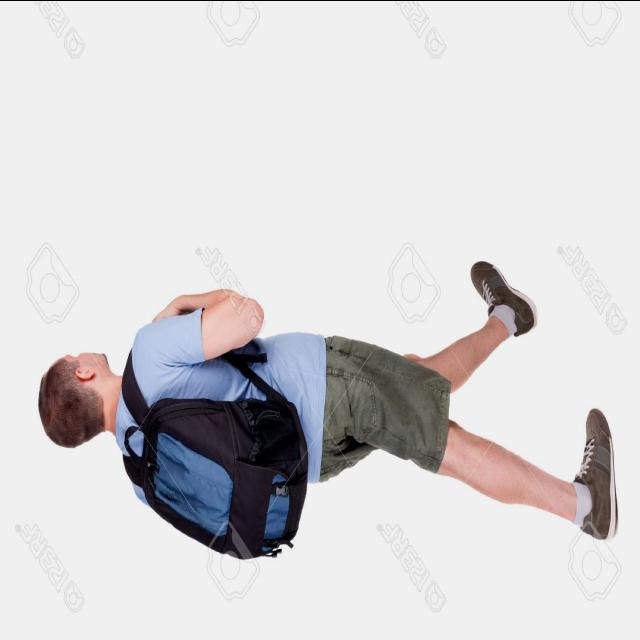backpack: (121, 342, 310, 562)
